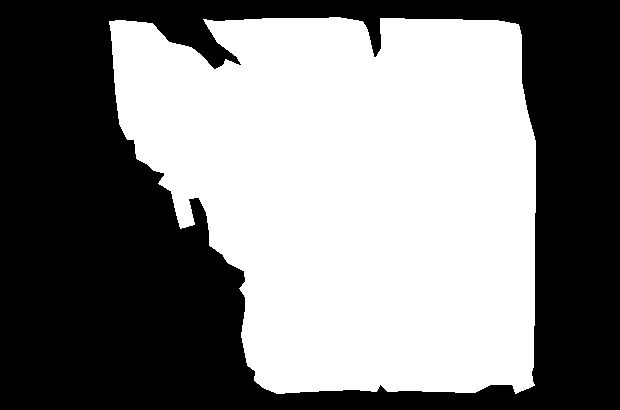type2: (106, 13, 537, 396)
